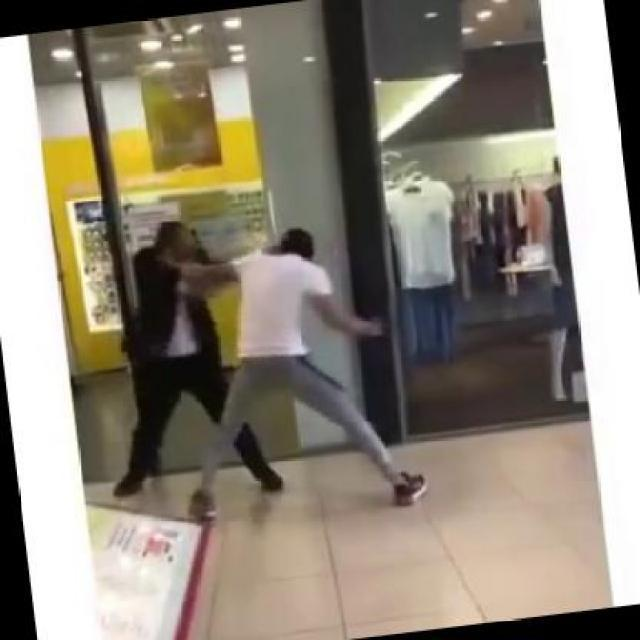fight: (99, 194, 422, 534)
